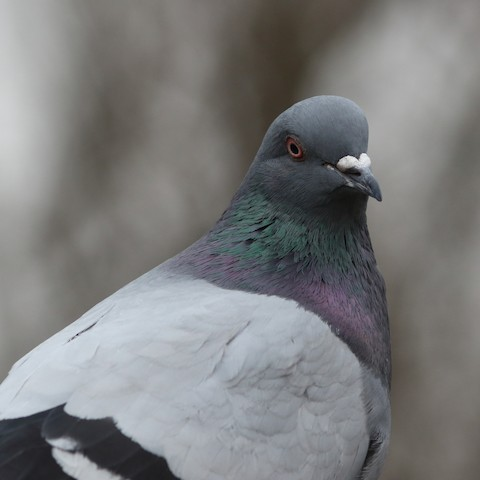pigeon: (9, 91, 398, 467)
